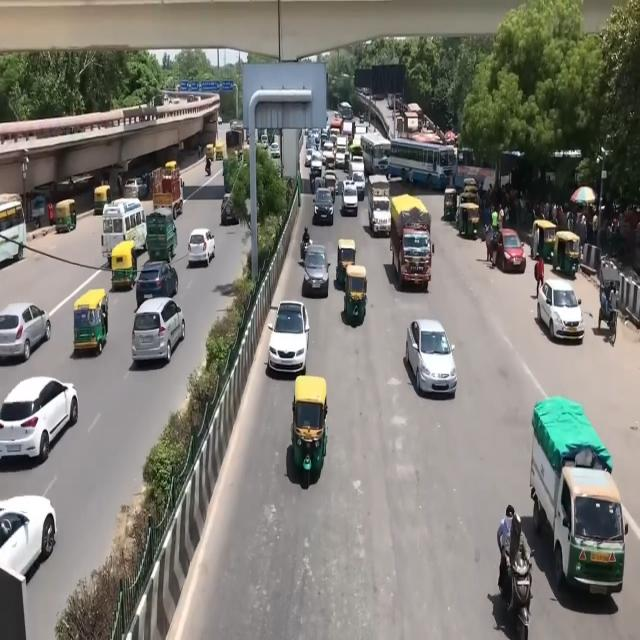auto: (292, 366, 336, 495), (68, 287, 115, 361), (343, 258, 370, 339), (329, 234, 364, 293), (111, 242, 139, 300), (56, 201, 81, 245)
bike-auto: (488, 500, 542, 640)
